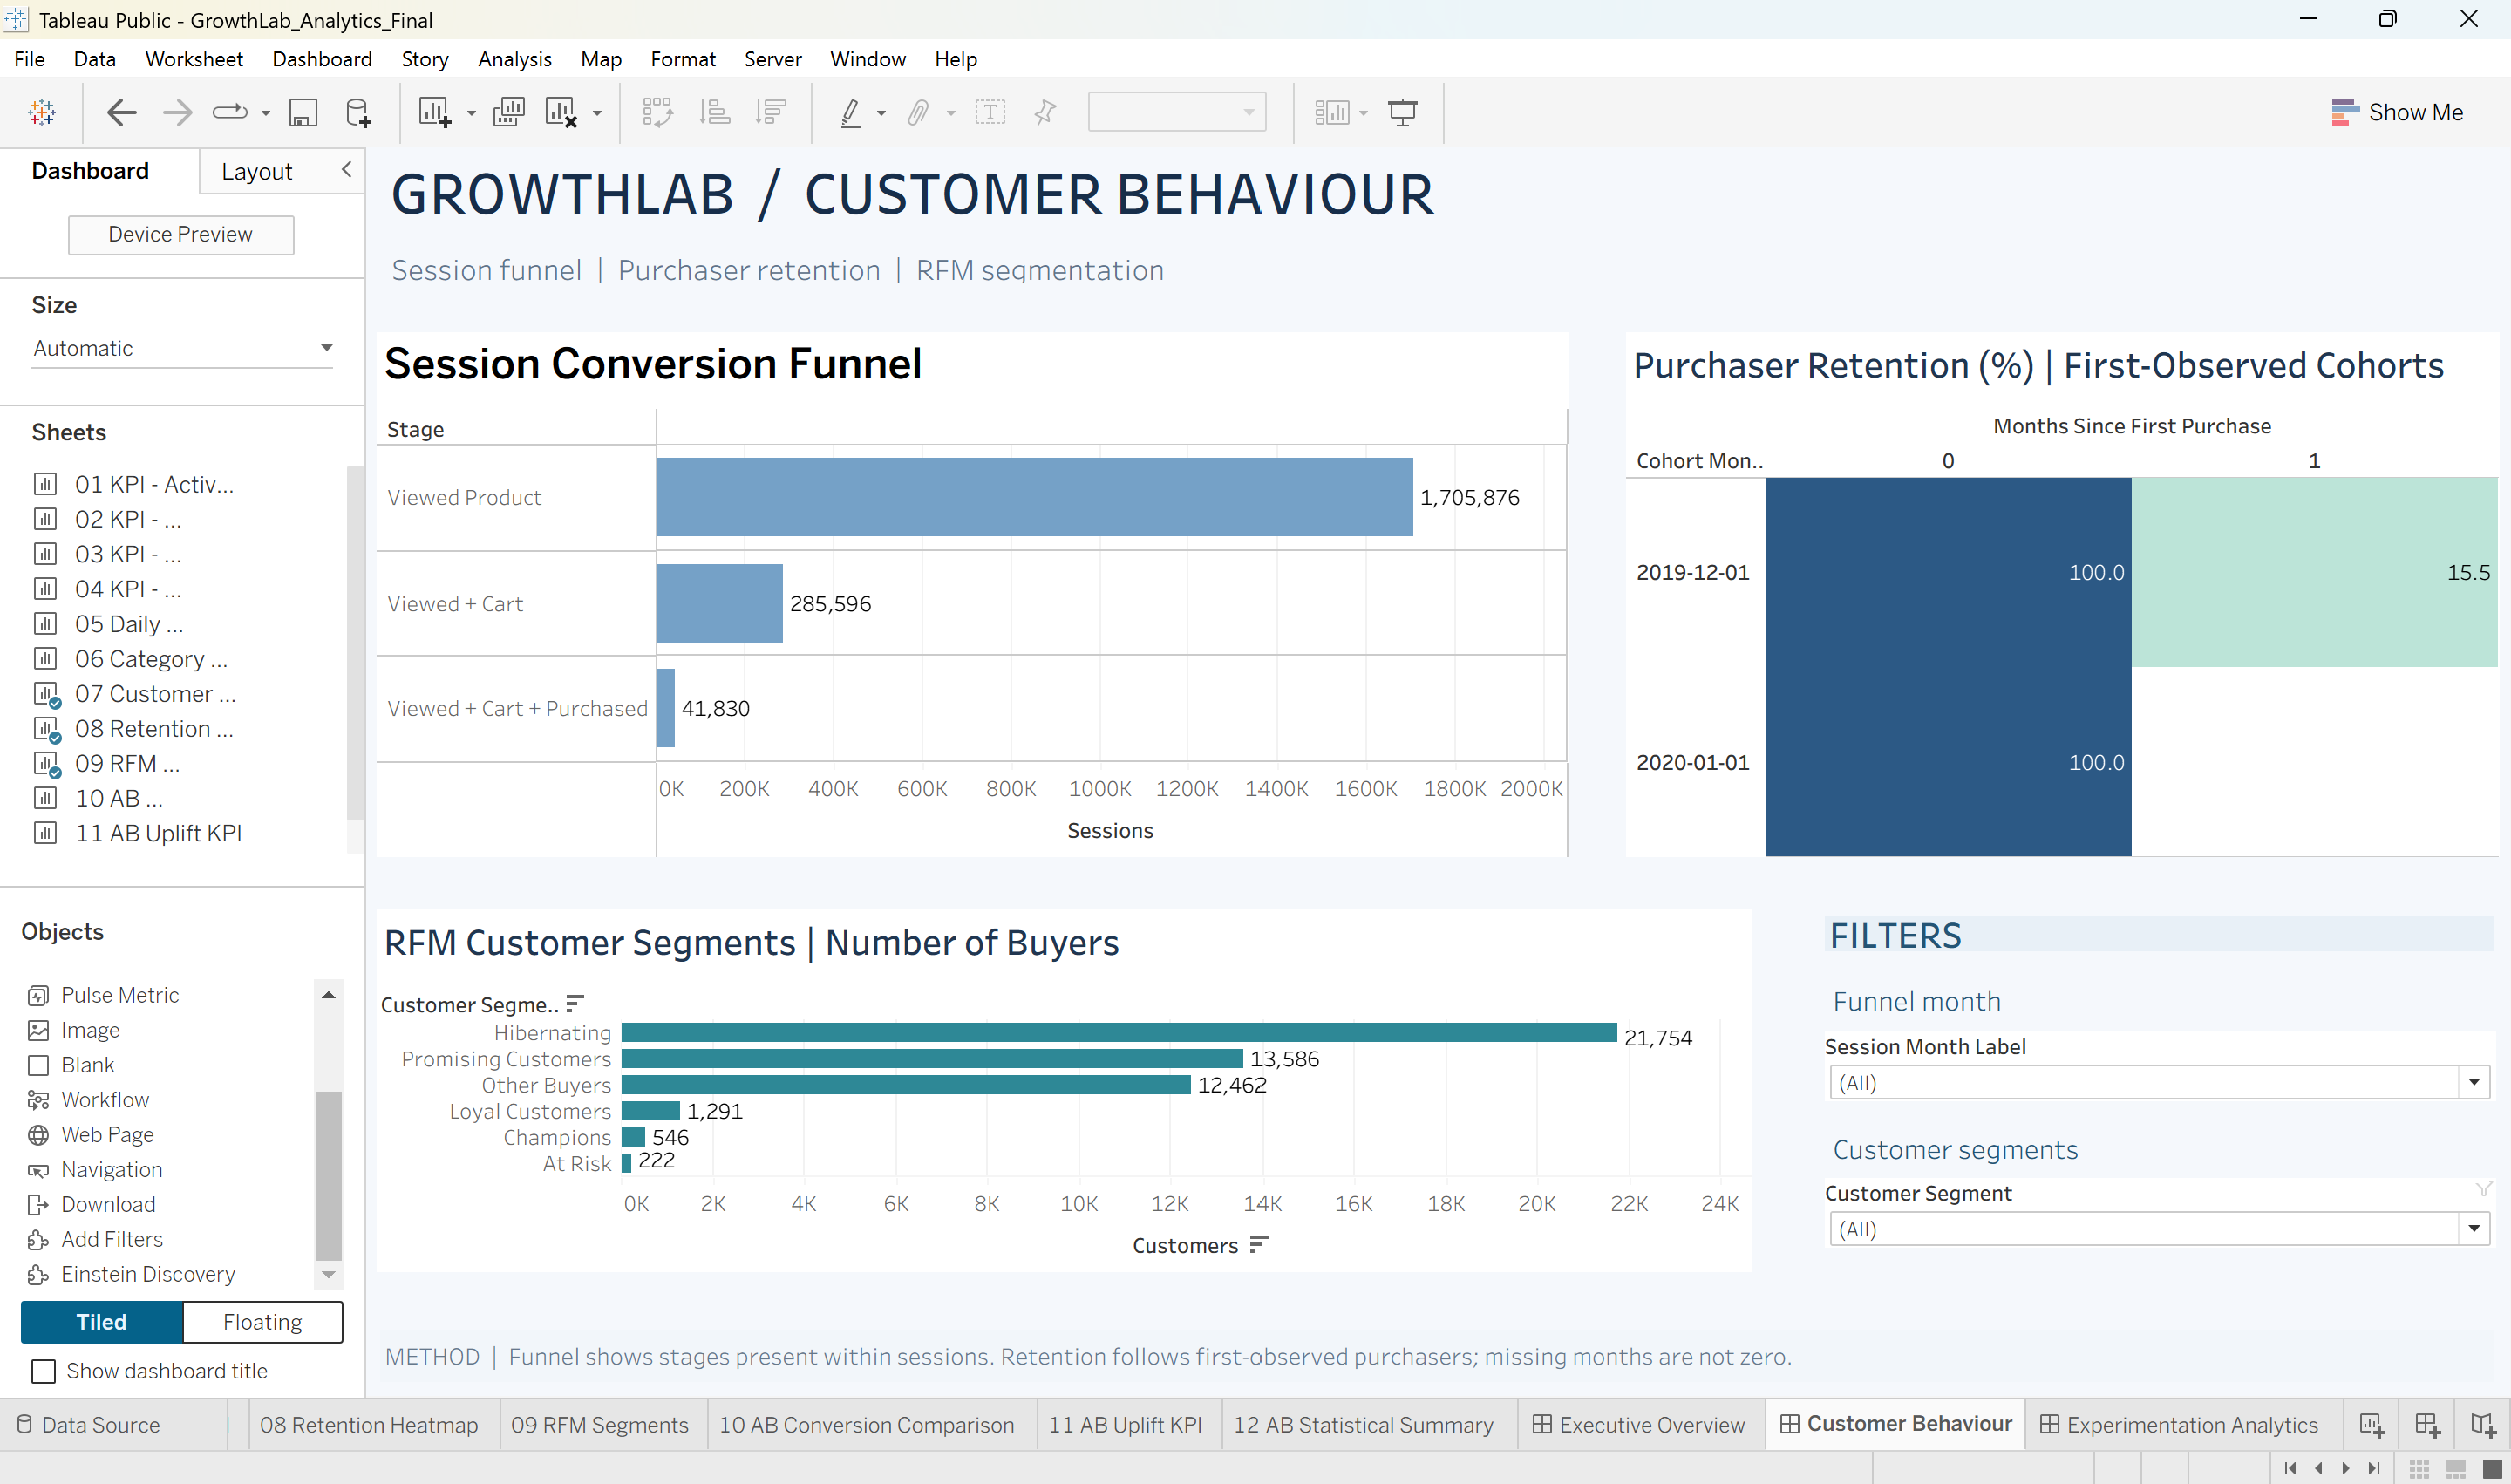

This screenshot's page, from the dashboard's own definition file:
{"tool":"tableau","page":{"name":"Customer Behaviour","canvas":[1000,1000],"units":"permille","ordinal":0},"visuals":[{"type":"text","box":[2.1,0,995.8,71.7]},{"type":"text","box":[3.1,77.4,988.5,42.6]},{"type":"worksheet","title":"07 Customer Funnel","mark":"Bar","rows":["stage_number","stage"],"cols":["sessions"],"box":[0,139.1,565.9,438.2]},{"type":"worksheet","title":"08 Retention Heatmap","mark":"Square","rows":["cohort_month"],"cols":["months_since_first_purchase"],"box":[582.6,139.1,417.4,438.2]},{"type":"worksheet","title":"09 RFM Segments","mark":"Bar","rows":["customer_segment"],"cols":["customers"],"box":[0,602.3,650.6,307.4]},{"type":"text","box":[673.6,605.4,325.3,49.9]},{"type":"text","box":[675.7,660.4,314.9,35.3]},{"type":"filter","title":"07 Customer Funnel","param":"[federated.1pidvtm0y022e714ccbx71h7e9wa].[none:Calculation_2355382669771902976:n","box":[676.8,702,320.1,67.5]},{"type":"text","box":[675.7,777.8,314.9,35.3]},{"type":"filter","title":"09 RFM Segments","param":"[federated.10gymdm0huu9yf17yzmm107nk4w9].[none:customer_segment:nk]","box":[676.8,819.3,320.1,67.5]},{"type":"text","box":[0,935.6,999,64.4]}]}

Visuals, with their boxes on the dashboard's canvas, which has no fixed pixel size, in thousandths of its width and height (x1, y1, x2, y2). These are canvas units, not pixel positions in the 2511x1484 screenshot, which may show the page scaled, cropped or inside an application window:
text: x1=2 y1=0 x2=998 y2=72
text: x1=3 y1=77 x2=992 y2=120
"07 Customer Funnel" worksheet (Bar marks): x1=0 y1=139 x2=566 y2=577
"08 Retention Heatmap" worksheet (Square marks): x1=583 y1=139 x2=1000 y2=577
"09 RFM Segments" worksheet (Bar marks): x1=0 y1=602 x2=651 y2=910
text: x1=674 y1=605 x2=999 y2=655
text: x1=676 y1=660 x2=991 y2=696
"07 Customer Funnel" filter: x1=677 y1=702 x2=997 y2=770
text: x1=676 y1=778 x2=991 y2=813
"09 RFM Segments" filter: x1=677 y1=819 x2=997 y2=887
text: x1=0 y1=936 x2=999 y2=1000
